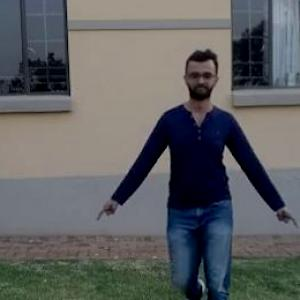land: (114, 61, 291, 299)
